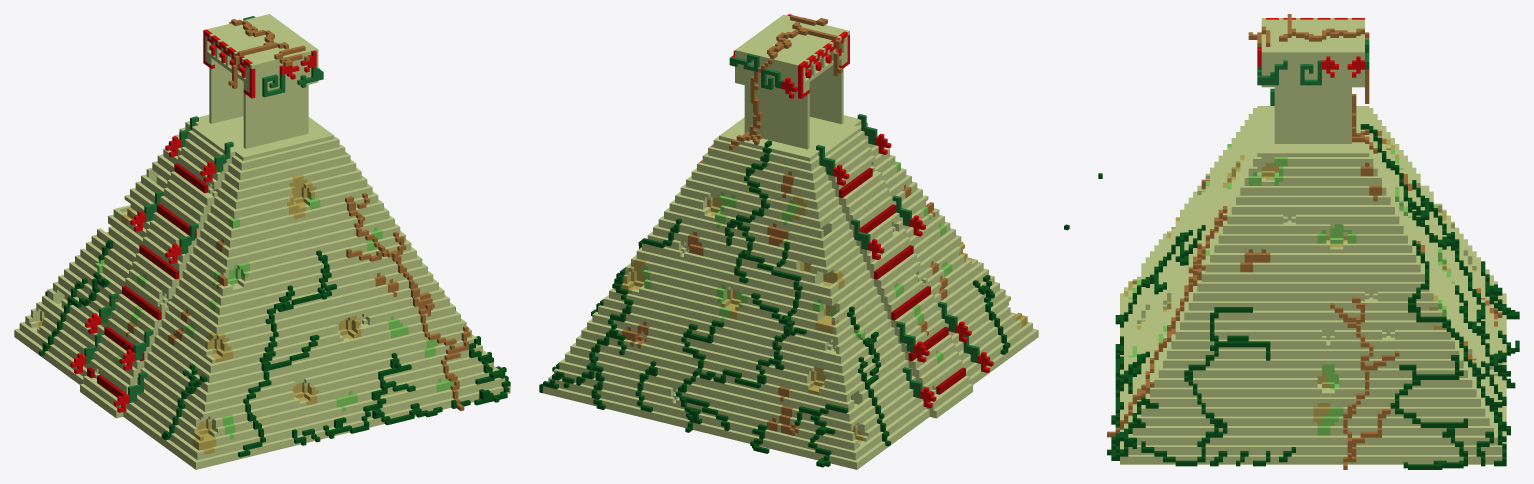
File: piramide.obj
The picture shows the model from 3 angles, left to right: view 1: azimuth 30°, elevation 25°; view 2: azimuth 150°, elevation 25°; view 3: azimuth 270°, elevation 25°; orthographic projection. The views are drawn at different scales.
Bounding box in the file's own units: 9.9 × 9 × 9.8.
